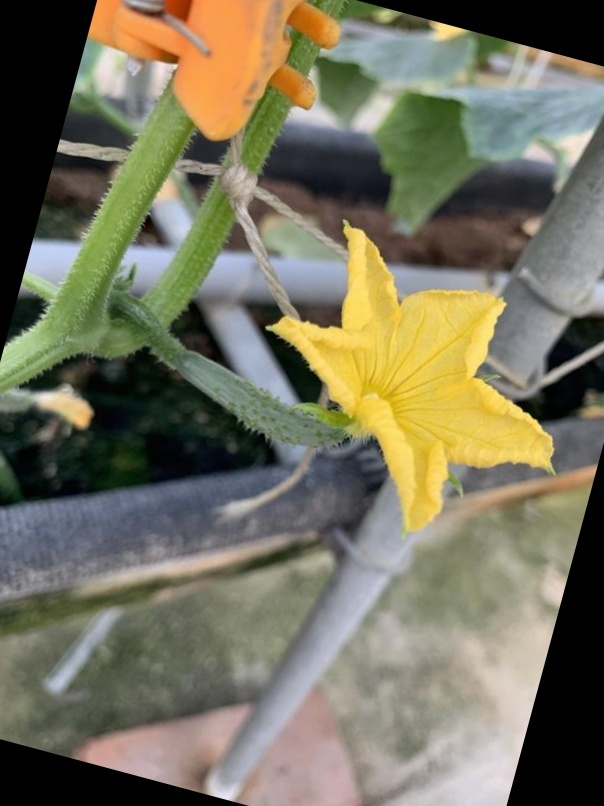flowering: (152, 216, 554, 513)
